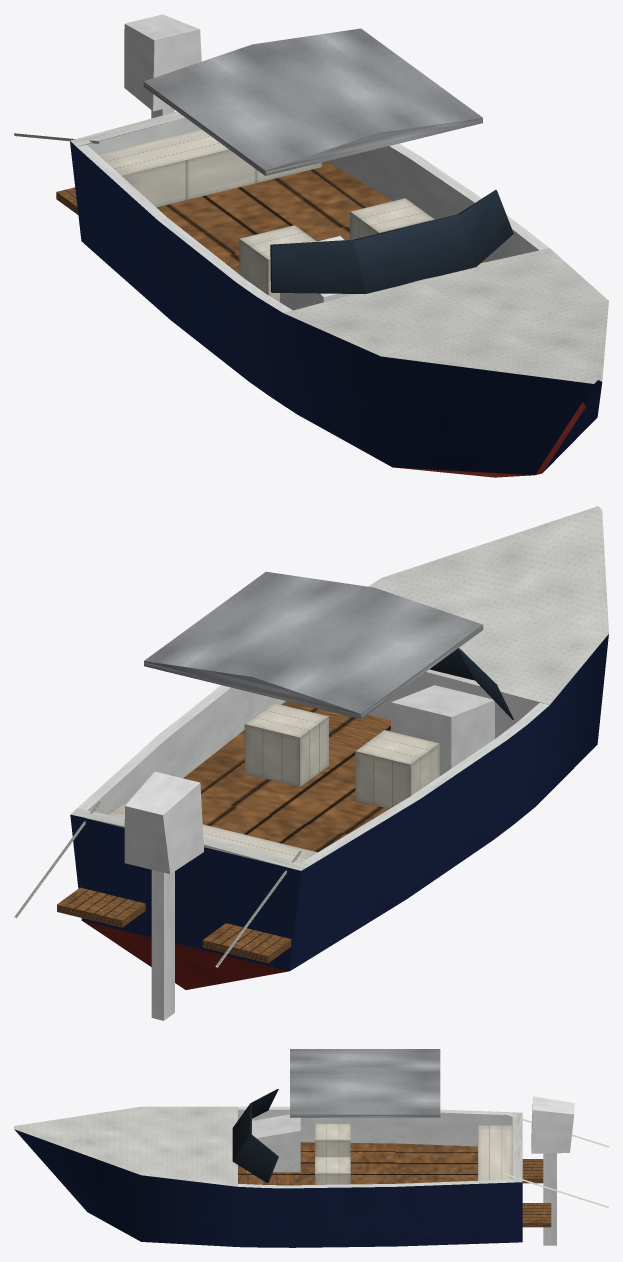
File: SM_Morin_Barca_Motoscafo_Blu_LOD2.fbx
The picture shows the model from 3 angles, top to bottom: view 1: azimuth 30°, elevation 25°; view 2: azimuth 150°, elevation 25°; view 3: azimuth 270°, elevation 25°; orthographic projection. The views are drawn at different scales.
Visible parts, largest first — view 1: SM_Morin_Barca_Motoscafo_Blu_LOD2; view 2: SM_Morin_Barca_Motoscafo_Blu_LOD2; view 3: SM_Morin_Barca_Motoscafo_Blu_LOD2.
Part boxes in pixels (x1,y1,x2,y2): SM_Morin_Barca_Motoscafo_Blu_LOD2: (14,14,608,477); SM_Morin_Barca_Motoscafo_Blu_LOD2: (14,506,608,1020); SM_Morin_Barca_Motoscafo_Blu_LOD2: (14,1049,608,1247).
Size of the model in its own units: 270 by 830 by 259.
Materials: 1 (1 with a texture image).
